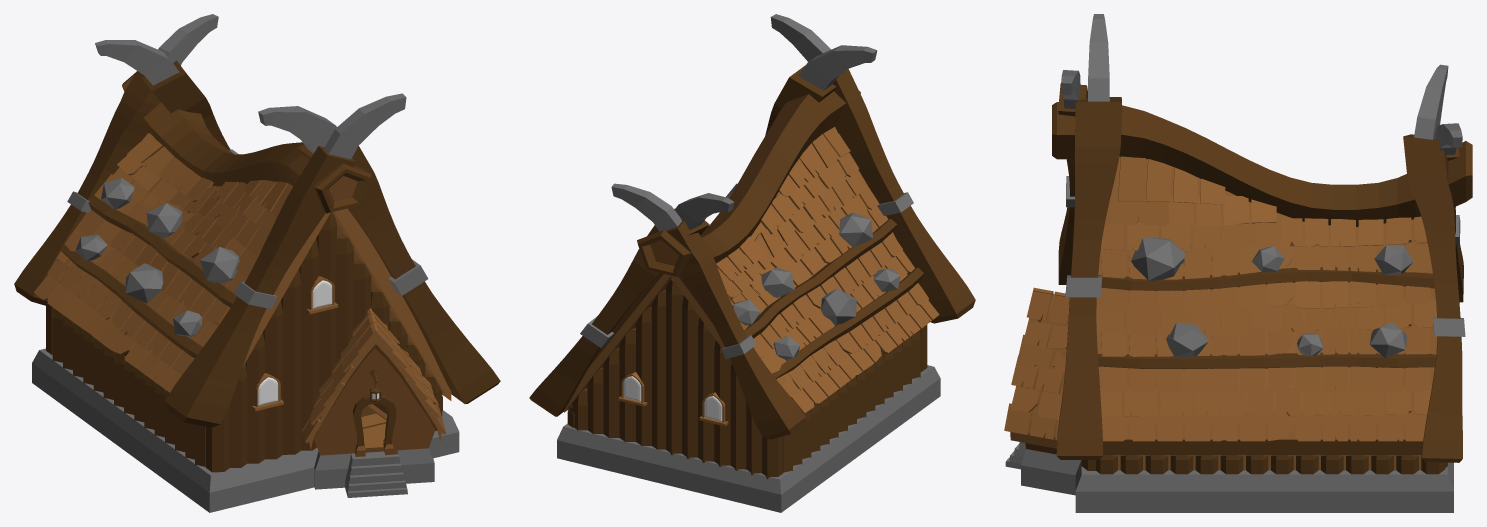
Rendered from B_BaseB.fbx.
The picture shows the model from 3 angles, left to right: view 1: azimuth 30°, elevation 25°; view 2: azimuth 150°, elevation 25°; view 3: azimuth 270°, elevation 25°; orthographic projection. The views are drawn at different scales.
Parts seen in each view (by area): view 1: B_BaseB; view 2: B_BaseB; view 3: B_BaseB.
Boxes of the visible parts, x1,y1,x2,y2 form: B_BaseB: (14, 14, 500, 512); B_BaseB: (529, 14, 975, 512); B_BaseB: (1004, 14, 1472, 512).
Size of the model in its own units: 922 by 1060 by 1120.
